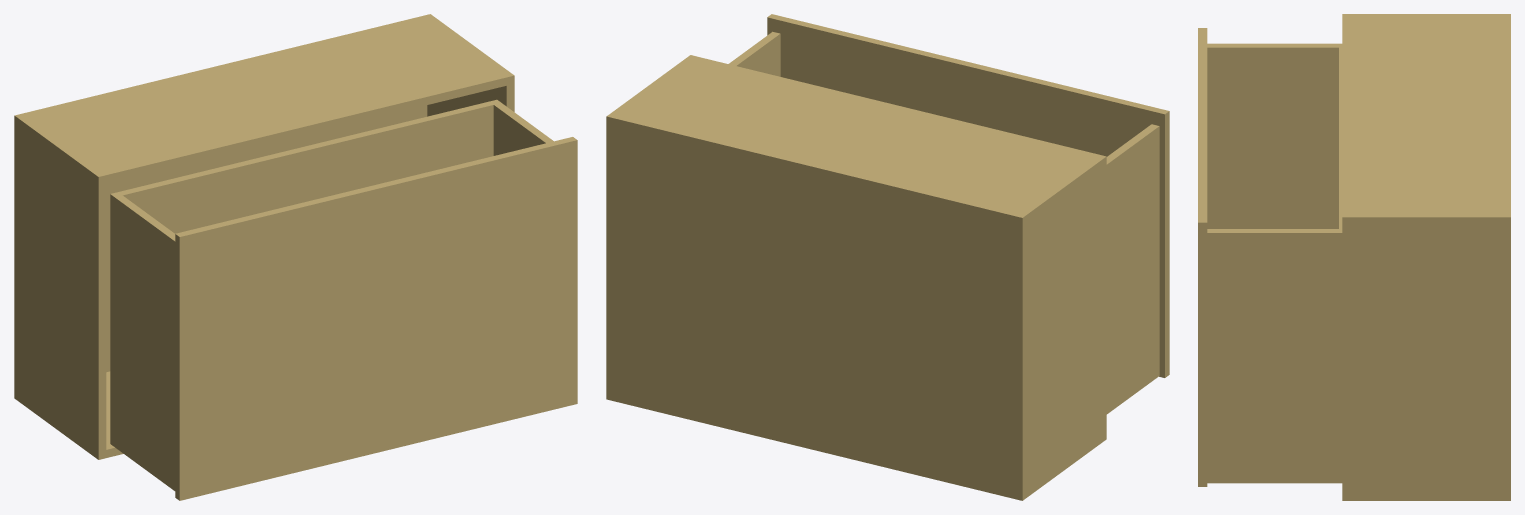
File: meuble_69130dd2523a9.glb
The picture shows the model from 3 angles, left to right: view 1: azimuth 30°, elevation 25°; view 2: azimuth 150°, elevation 25°; view 3: azimuth 270°, elevation 25°; orthographic projection.
Visible parts, largest first — view 1: world; view 2: world; view 3: world.
Part boxes in pixels (bbox=[...]): world: bbox=[14, 14, 577, 500]; world: bbox=[606, 14, 1169, 500]; world: bbox=[1198, 14, 1510, 500].
Size of the model in its own units: 1 by 0.65 by 0.65.
